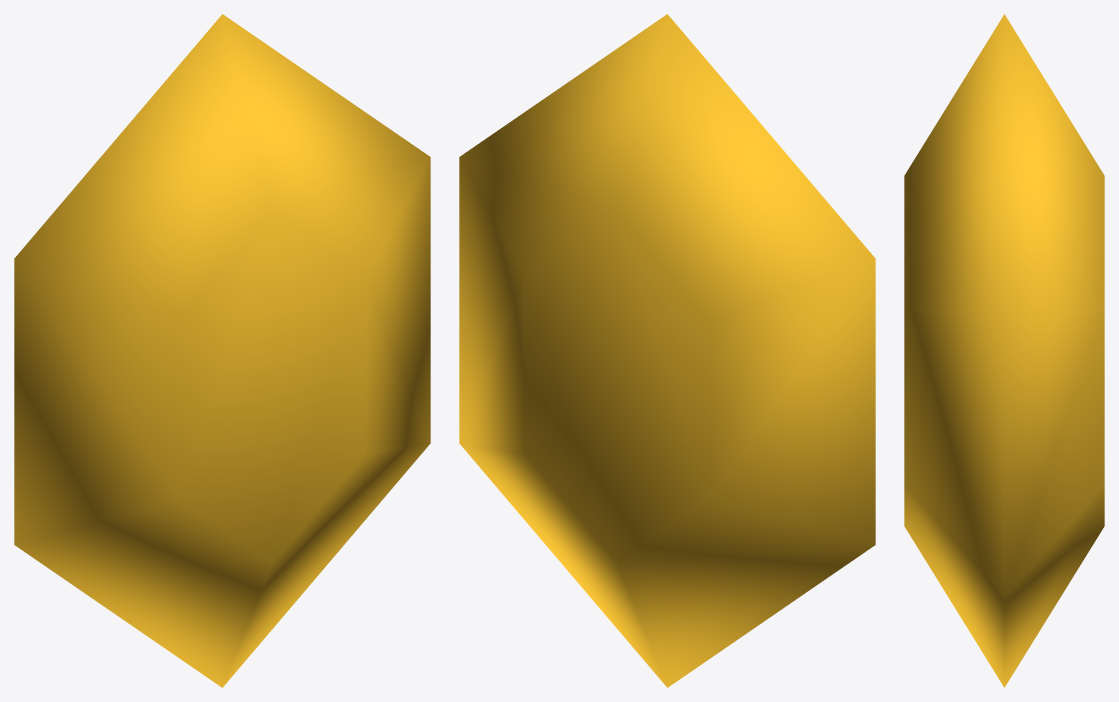
File: Item_Coin.fbx
3 views of the same model, side by side, from view 1: azimuth 30°, elevation 25°; view 2: azimuth 150°, elevation 25°; view 3: azimuth 270°, elevation 25° (orthographic).
Parts seen in each view (by area): view 1: ItemCoin_0; view 2: ItemCoin_0; view 3: ItemCoin_0.
Part boxes in pixels (bbox=[...]): ItemCoin_0: bbox=[14, 14, 430, 687]; ItemCoin_0: bbox=[459, 14, 875, 687]; ItemCoin_0: bbox=[904, 14, 1104, 687].
Bounding box in the file's own units: 48.46 × 75 × 20.22.
1 material, 1 textured.
